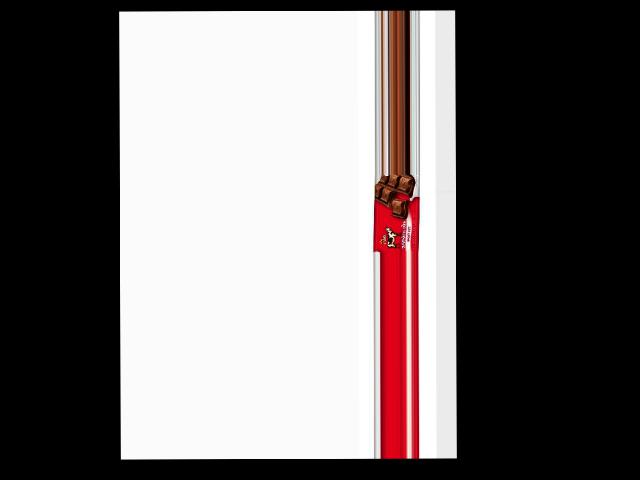chocolate: (374, 174, 420, 253)
